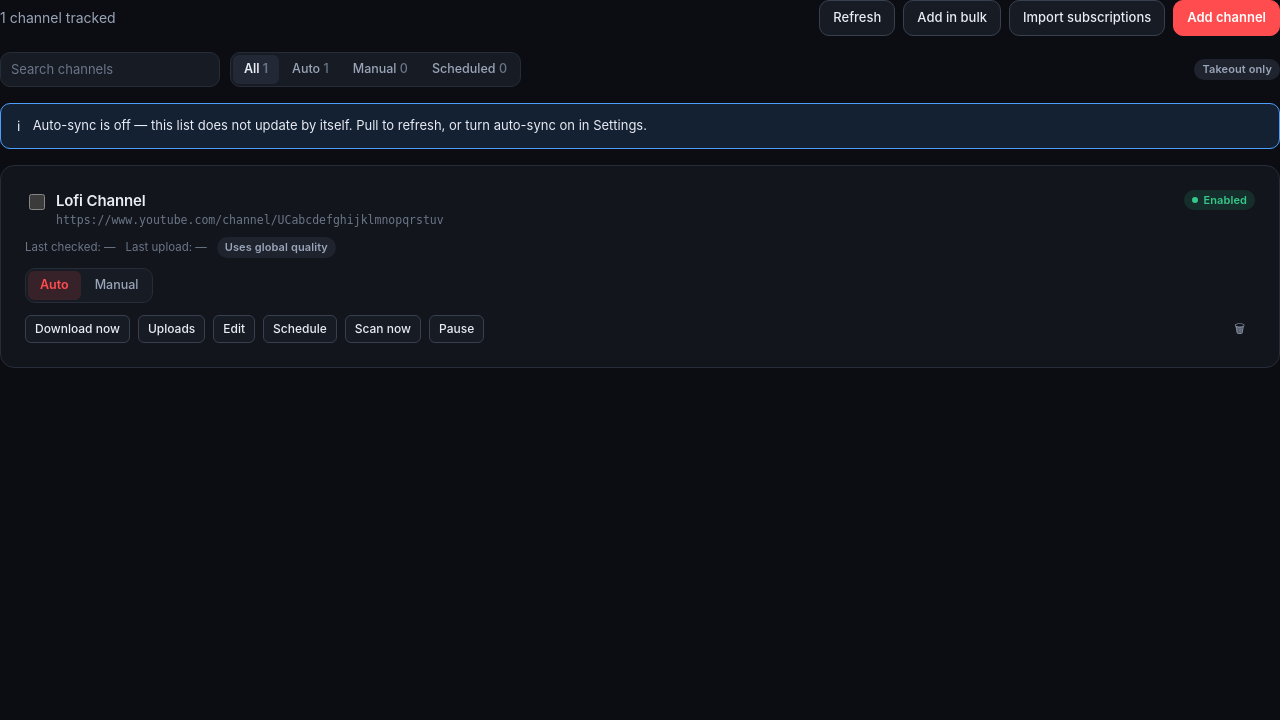
Test case: schedule time is evaluated in UTC, not device-local › labels the field UTC so nobody reads it as their own clock
Expected: the heading "Lofi Channel" is shown, [56,191,146,210]
Click the button "Schedule" at [300, 329], box [263,315,337,343]
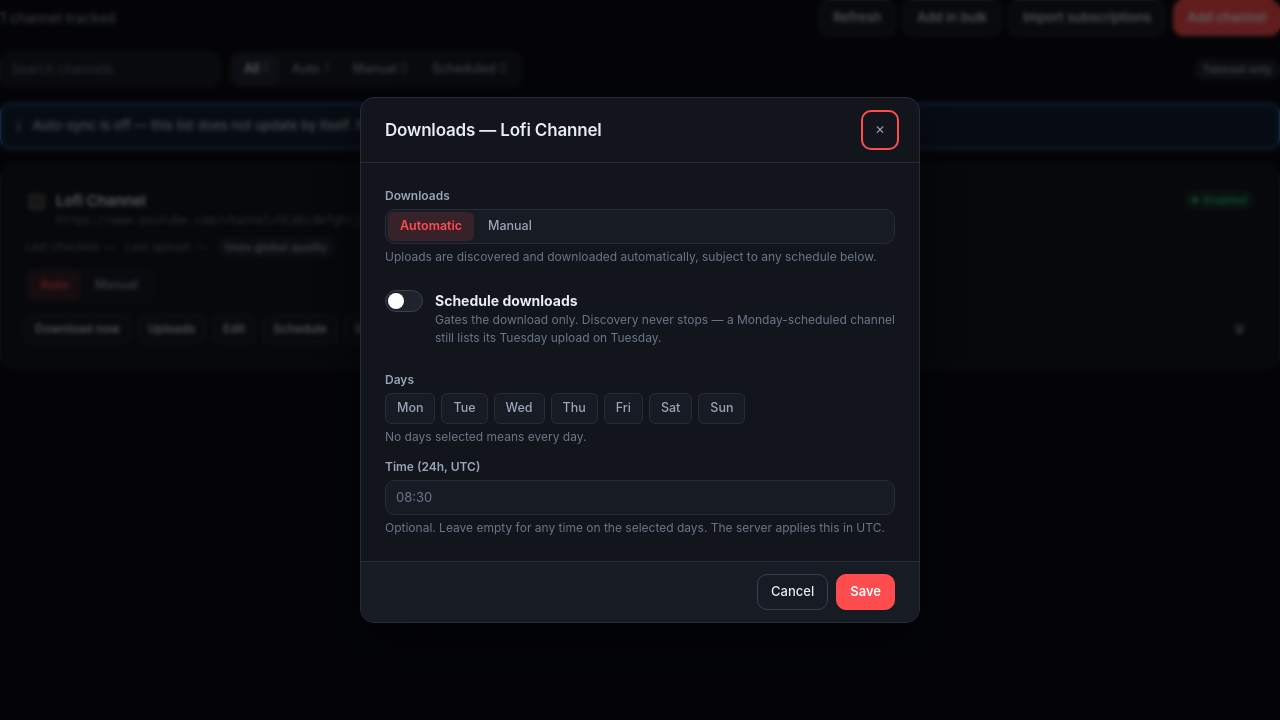
Expected: the field labelled "Time (24h, UTC)" is shown, [385,480,895,515]
Expected: the dialog shows "UTC", [385,459,480,474]
